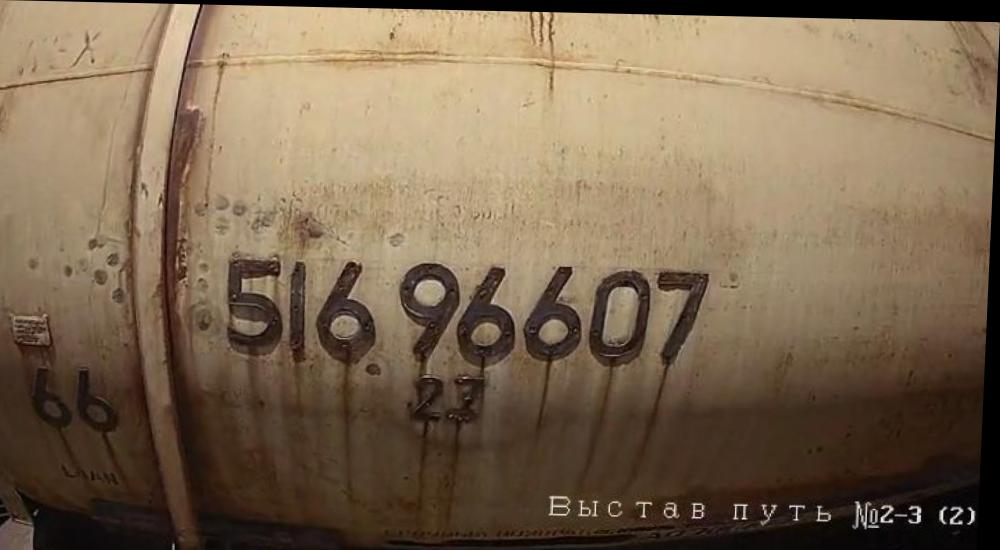Wagon-number: (220, 246, 719, 373)
